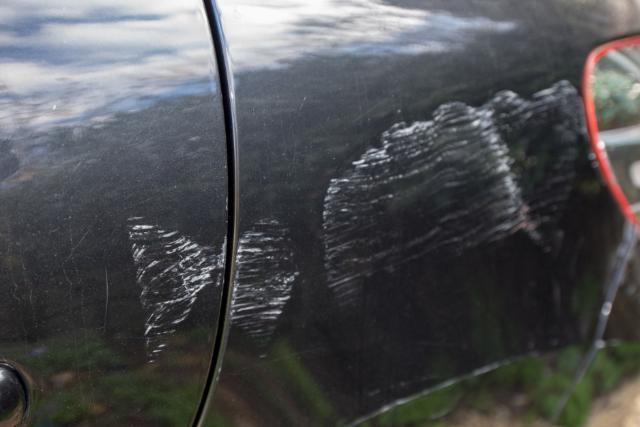Door: (108, 199, 232, 373)
Fender: (225, 69, 602, 364)
